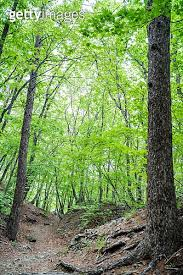forest: (3, 9, 181, 259)
